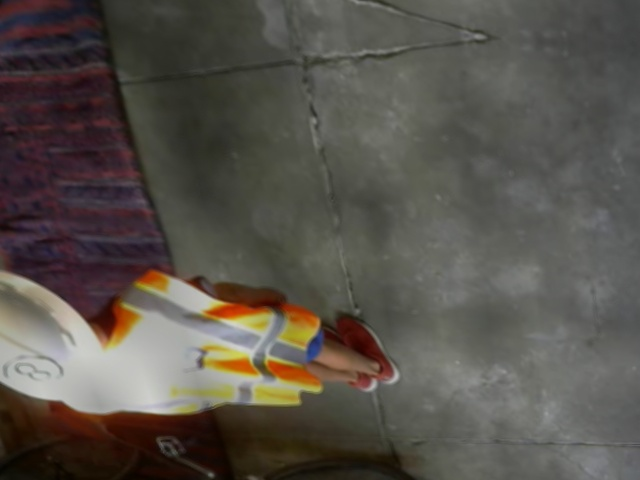eight: (0, 353, 69, 386)
